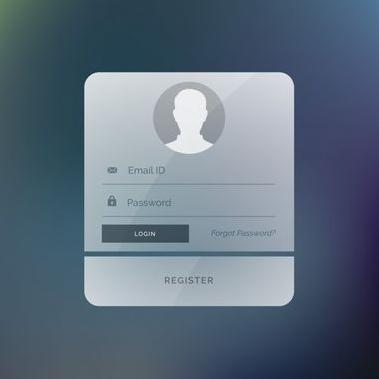button: (101, 224, 191, 245)
field_line: (101, 195, 276, 219), (102, 164, 279, 186)
